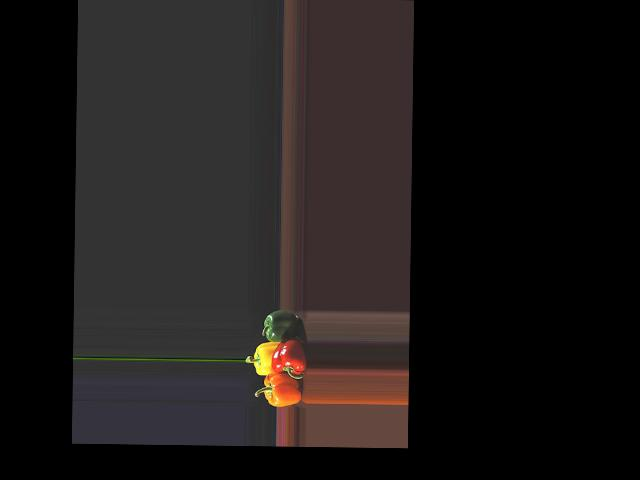bell_pepper: (258, 371, 307, 407)
